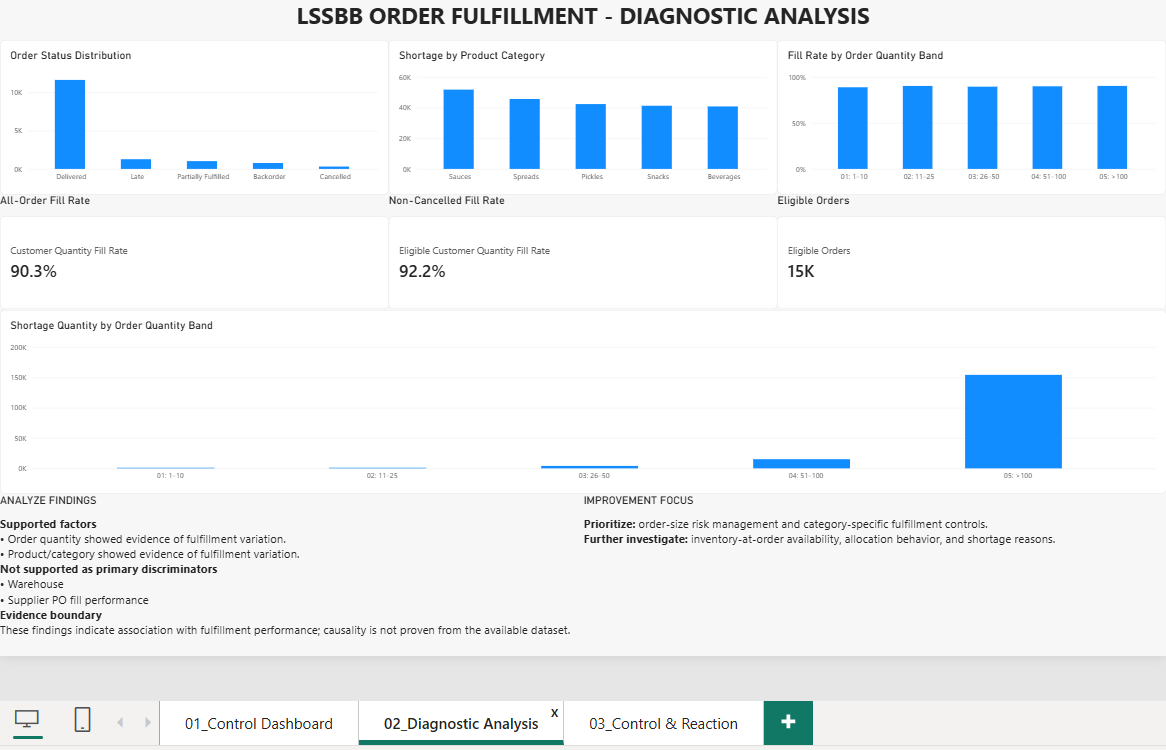

The page's visual inventory and layout, read from the dashboard file:
{"tool":"powerbi","page":{"name":"02_Diagnostic Analysis","canvas":[1920,1080],"ordinal":1},"visuals":[{"type":"clusteredColumnChart","title":"Order Status Distribution","fields":{"Category":["order_fulfillment_analytical_dataset.Order_Status"],"Y":["order_fulfillment_analytical_dataset.Total Orders"]},"box":[0,65.9,640.2,254.1],"z":0,"group":"g1"},{"type":"clusteredColumnChart","title":"Shortage by Product Category","fields":{"Category":["order_fulfillment_analytical_dataset.Category"],"Y":["order_fulfillment_analytical_dataset.Shortage Qty"]},"box":[640.1,65.9,640.2,254.1],"z":1,"group":"g1"},{"type":"clusteredColumnChart","title":"Fill Rate by Order Quantity Band","fields":{"Category":["order_fulfillment_analytical_dataset.Order Quantity Band"],"Y":["order_fulfillment_analytical_dataset.Customer Quantity Fill Rate"]},"box":[1280.2,65.9,640.2,254.1],"z":2,"group":"g1"},{"type":"cardVisual","title":"All-Order Fill Rate","fields":{"Data":["order_fulfillment_analytical_dataset.Customer Quantity Fill Rate"]},"box":[0,319.9,640.2,190.6],"z":3,"group":"g1"},{"type":"cardVisual","title":"Non-Cancelled Fill Rate","fields":{"Data":["order_fulfillment_analytical_dataset.Eligible Customer Quantity Fill Rate"]},"box":[640.1,319.9,640.1,190.5],"z":4,"group":"g1"},{"type":"cardVisual","title":"Eligible Orders","fields":{"Data":["order_fulfillment_analytical_dataset.Eligible Orders"]},"box":[1280.2,319.9,640.2,190.6],"z":5,"group":"g1"},{"type":"clusteredColumnChart","title":"Shortage Quantity by Order Quantity Band","fields":{"Category":["order_fulfillment_analytical_dataset.Order Quantity Band"],"Y":["order_fulfillment_analytical_dataset.Eligible Shortage Qty"]},"box":[0,510.5,1920.4,302.6],"z":6},{"type":"group","id":"g1","title":"Group 1","box":[0,65.9,1920.4,444.6],"z":7},{"type":"textbox","title":"ANALYZE FINDINGS","box":[0,813,1101.2,267.6],"z":8},{"type":"textbox","title":"IMPROVEMENT FOCUS","box":[1101.2,813,819.2,267.6],"z":9},{"type":"textbox","box":[0,0,1920.4,65.9],"z":10}]}

Visuals, with their boxes on the page's 1920x1080 design canvas (x1, y1, x2, y2). These are canvas units, not pixel positions in the 1166x750 screenshot, which may show the page scaled, cropped or inside an application window:
"Order Status Distribution" clusteredColumnChart: {"x1": 0, "y1": 66, "x2": 640, "y2": 320}
"Shortage by Product Category" clusteredColumnChart: {"x1": 640, "y1": 66, "x2": 1280, "y2": 320}
"Fill Rate by Order Quantity Band" clusteredColumnChart: {"x1": 1280, "y1": 66, "x2": 1920, "y2": 320}
"All-Order Fill Rate" cardVisual: {"x1": 0, "y1": 320, "x2": 640, "y2": 510}
"Non-Cancelled Fill Rate" cardVisual: {"x1": 640, "y1": 320, "x2": 1280, "y2": 510}
"Eligible Orders" cardVisual: {"x1": 1280, "y1": 320, "x2": 1920, "y2": 510}
"Shortage Quantity by Order Quantity Band" clusteredColumnChart: {"x1": 0, "y1": 510, "x2": 1920, "y2": 813}
"Group 1" group: {"x1": 0, "y1": 66, "x2": 1920, "y2": 510}
"ANALYZE FINDINGS" textbox: {"x1": 0, "y1": 813, "x2": 1101, "y2": 1081}
"IMPROVEMENT FOCUS" textbox: {"x1": 1101, "y1": 813, "x2": 1920, "y2": 1081}
textbox: {"x1": 0, "y1": 0, "x2": 1920, "y2": 66}
